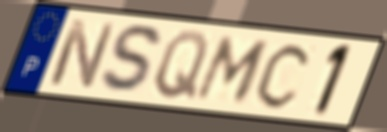1: (313, 44, 357, 121)
C: (253, 40, 315, 111)
M: (192, 33, 275, 105)
N: (45, 16, 118, 91)
Q: (151, 28, 211, 102)
S: (97, 22, 165, 97)
